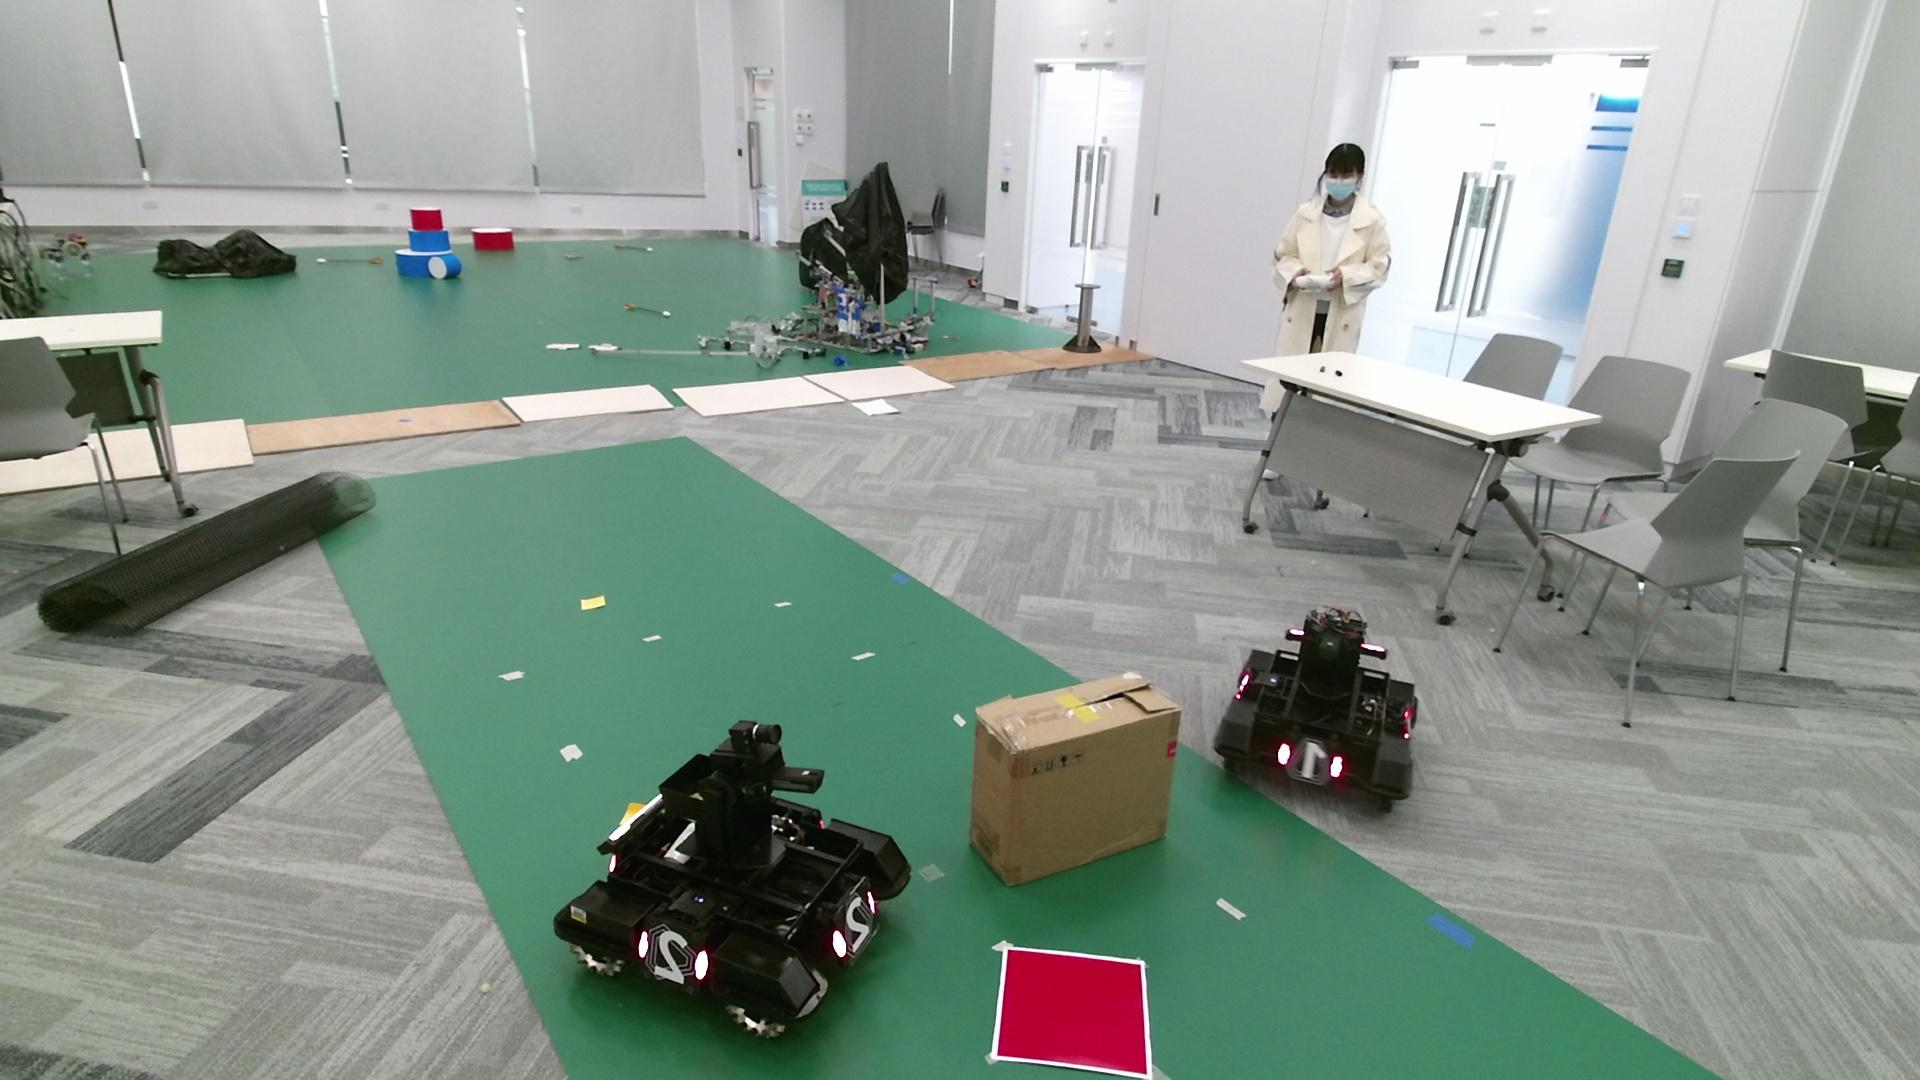robot: (551, 716, 913, 1043), (1213, 607, 1422, 815)
